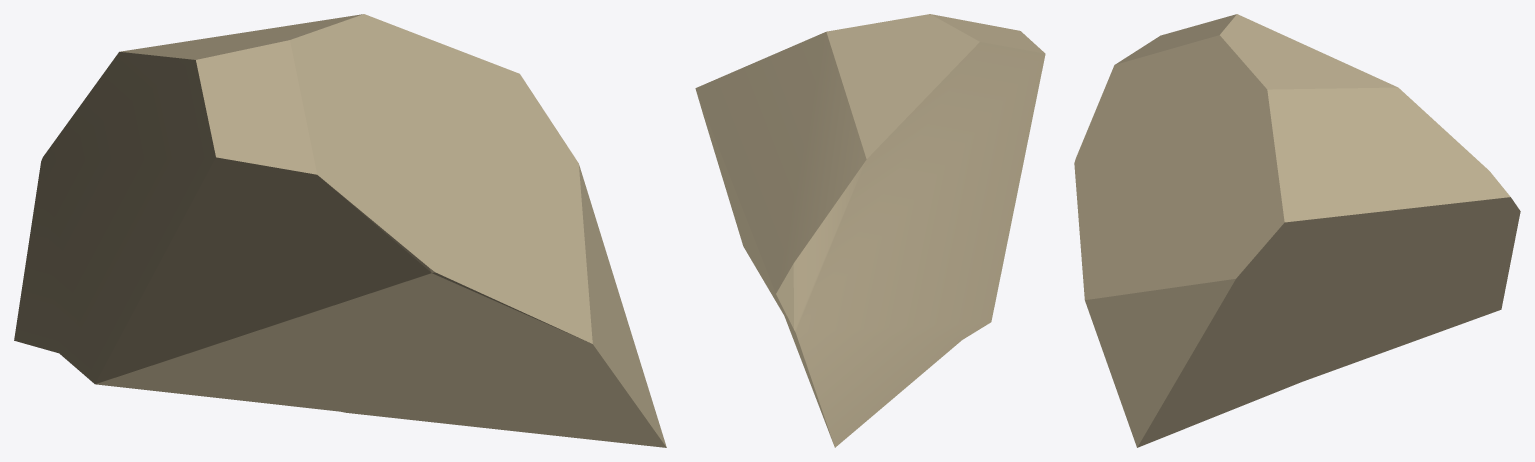
The model's file is Limestone.fbx.
The picture shows the model from 3 angles, left to right: view 1: azimuth 30°, elevation 25°; view 2: azimuth 150°, elevation 25°; view 3: azimuth 270°, elevation 25°; orthographic projection. The views are drawn at different scales.
Visible parts, largest first — view 1: Cube_cell.001; view 2: Cube_cell.001; view 3: Cube_cell.001.
Boxes of the visible parts, x1,y1,x2,y2 form: Cube_cell.001: (14,14,666,447); Cube_cell.001: (695,14,1045,447); Cube_cell.001: (1074,14,1520,447).
Size of the model in its own units: 365 by 340 by 446.
